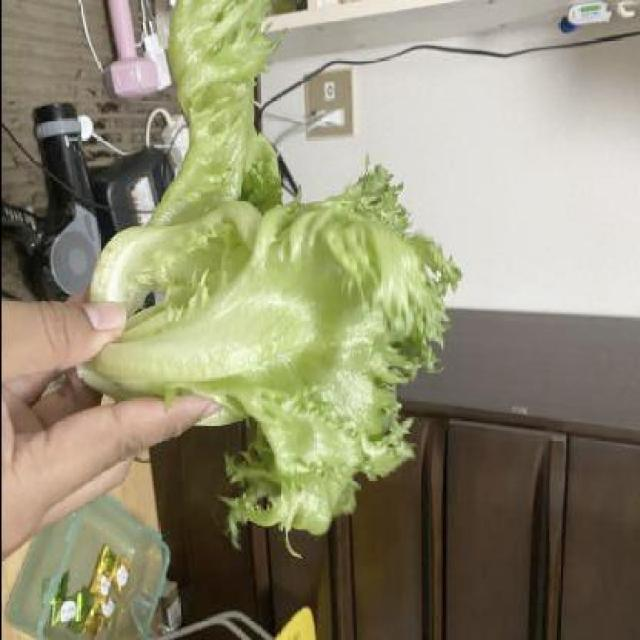Lettuce: (87, 0, 465, 545)
